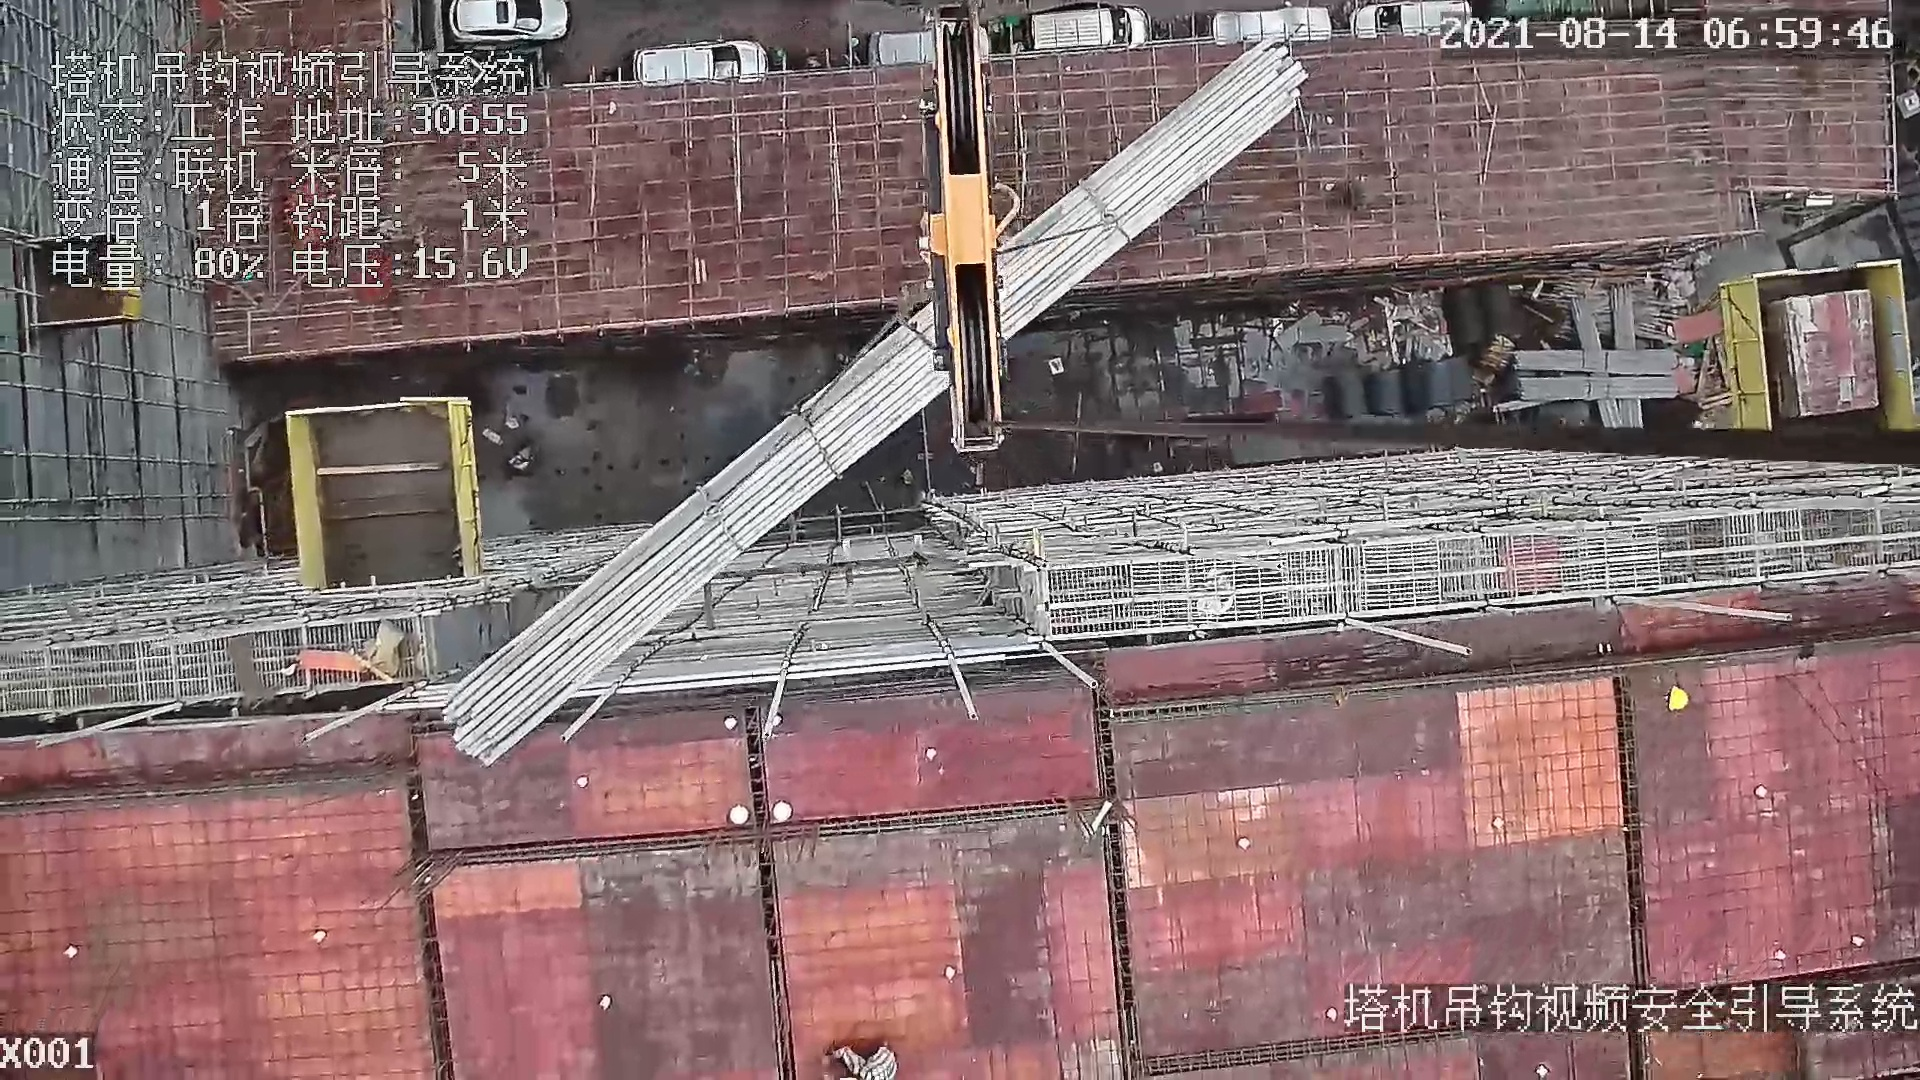board: (1766, 288, 1883, 419)
helmet: (1668, 686, 1688, 712)
hook: (895, 6, 1022, 468)
person: (828, 1047, 899, 1080)
rebar: (444, 38, 1309, 764), (1516, 378, 1677, 401), (1513, 350, 1671, 370), (1611, 284, 1638, 351), (1569, 296, 1600, 353)
